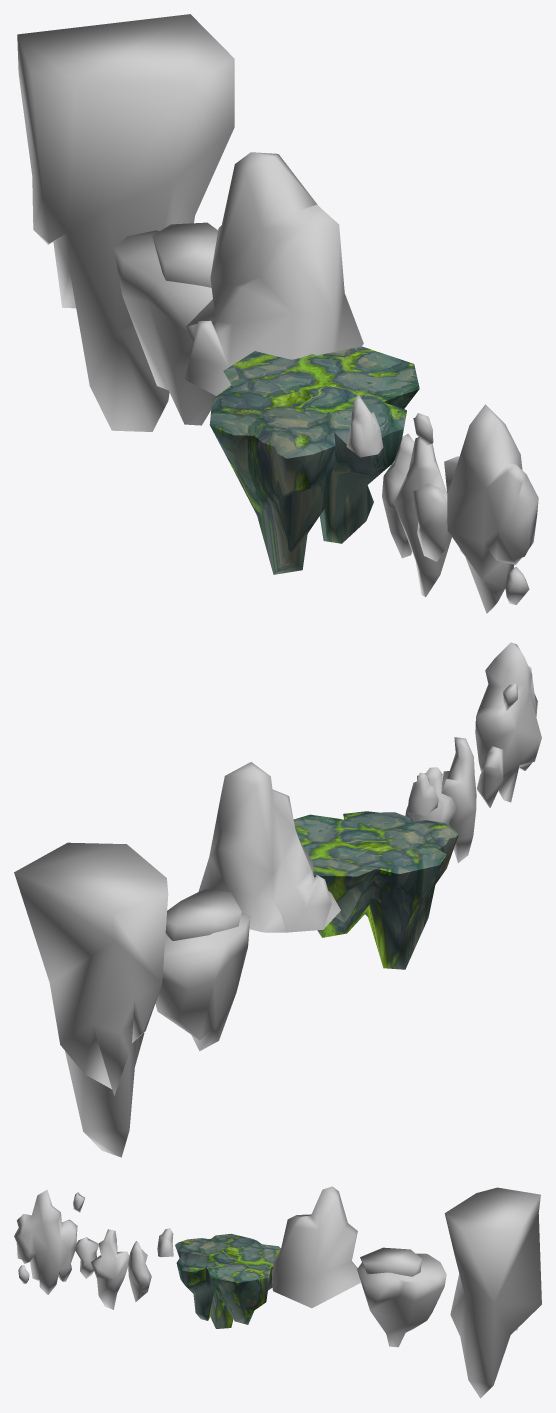
Rendered from shan_shi_003.FBX.
3 views of the same model, one above another, from view 1: azimuth 30°, elevation 25°; view 2: azimuth 150°, elevation 25°; view 3: azimuth 270°, elevation 25° (orthographic). The views are drawn at different scales.
Parts seen in each view (by area): view 1: shan_shi_003_h, shan_shi_003_e, shan_shi_003_f, shan_shi_003_a, shan_shi_003_g, shan_shi_003_b, shan_shi_003_c, shan_shi_003_d; view 2: shan_shi_003_h, shan_shi_003_e, shan_shi_003_f, shan_shi_003_g, shan_shi_003_a, shan_shi_003_b, shan_shi_003_c, shan_shi_003_d; view 3: shan_shi_003_h, shan_shi_003_f, shan_shi_003_e, shan_shi_003_g, shan_shi_003_a, shan_shi_003_b, shan_shi_003_c, shan_shi_003_d.
Boxes of the visible parts, x1,y1,x2,y2 form: shan_shi_003_h: [17, 14, 234, 431]; shan_shi_003_e: [209, 346, 419, 574]; shan_shi_003_f: [184, 152, 363, 395]; shan_shi_003_a: [412, 404, 538, 613]; shan_shi_003_g: [113, 222, 217, 425]; shan_shi_003_b: [393, 437, 451, 596]; shan_shi_003_c: [382, 434, 414, 558]; shan_shi_003_d: [346, 394, 383, 457]; shan_shi_003_h: [14, 842, 168, 1157]; shan_shi_003_e: [293, 811, 458, 969]; shan_shi_003_f: [198, 762, 340, 932]; shan_shi_003_g: [155, 888, 250, 1051]; shan_shi_003_a: [475, 642, 541, 807]; shan_shi_003_b: [441, 737, 476, 862]; shan_shi_003_c: [405, 767, 457, 824]; shan_shi_003_d: [407, 772, 438, 815]; shan_shi_003_h: [444, 1187, 541, 1398]; shan_shi_003_f: [271, 1186, 361, 1308]; shan_shi_003_e: [175, 1233, 280, 1328]; shan_shi_003_g: [357, 1247, 446, 1347]; shan_shi_003_a: [14, 1189, 98, 1294]; shan_shi_003_b: [91, 1229, 129, 1309]; shan_shi_003_c: [128, 1241, 151, 1301]; shan_shi_003_d: [157, 1228, 173, 1257].
Size of the model in its own units: 4151 by 5929 by 14169.
